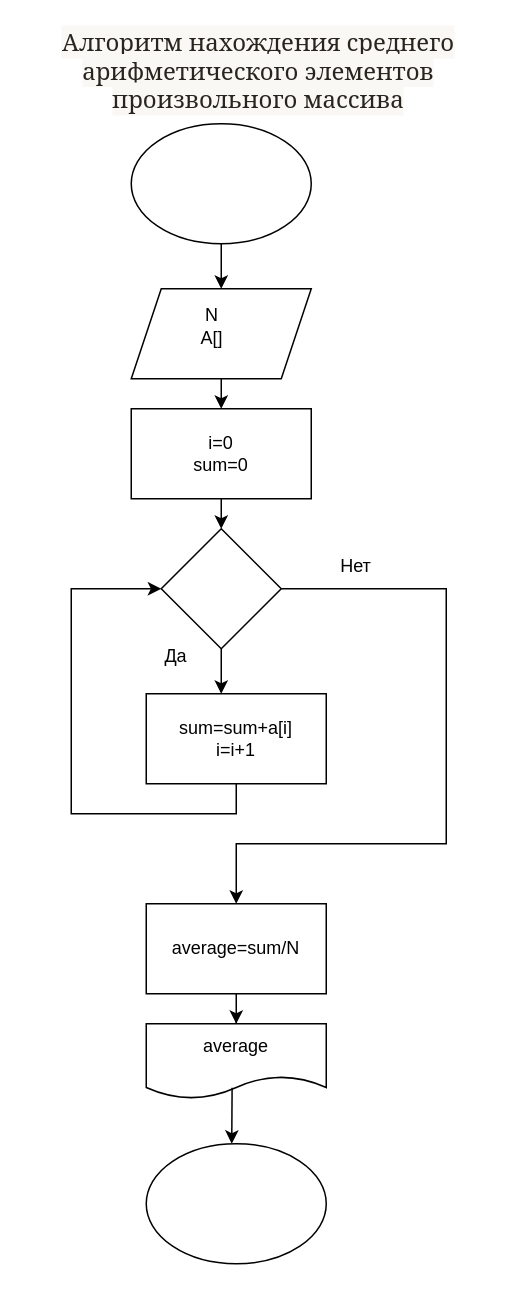
Some shapes in this 516 by 1290 pixel diagram are drawn without their labels. Each missing label, with the centre of its shape:
i<N: [220,588]
Конец: [235,1203]
Начало: [220,183]
